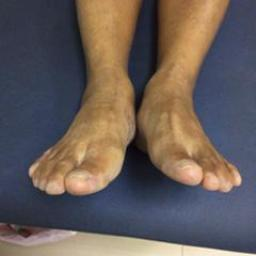Front View -Both Feet-: (20, 20, 251, 224)
